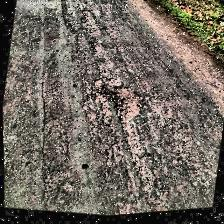pothole: (86, 72, 148, 130)
